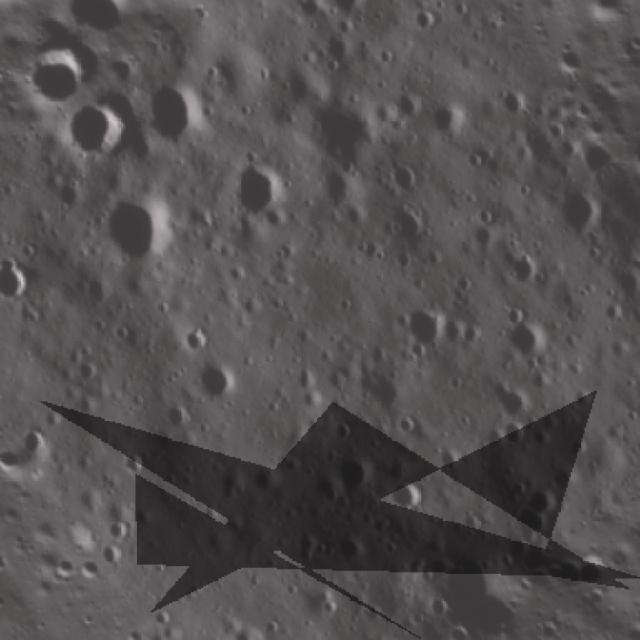crater: (283, 69, 402, 186), (86, 173, 194, 282), (207, 138, 304, 233), (46, 87, 140, 179), (127, 68, 218, 158), (199, 27, 287, 119), (537, 174, 617, 254), (389, 286, 463, 360), (492, 304, 560, 374), (356, 349, 424, 418), (185, 349, 250, 414), (322, 441, 386, 504), (496, 495, 558, 559), (481, 366, 542, 431), (490, 241, 552, 304), (379, 462, 439, 524), (0, 239, 45, 319), (421, 92, 479, 151), (405, 538, 463, 596), (382, 190, 440, 247), (278, 515, 334, 574), (376, 151, 433, 206), (325, 514, 378, 568), (489, 76, 542, 129), (11, 411, 63, 462), (516, 474, 567, 524), (169, 313, 220, 362), (157, 386, 206, 437), (310, 0, 382, 31), (600, 257, 640, 309), (400, 0, 448, 43), (112, 440, 156, 485), (415, 584, 460, 627), (224, 612, 282, 640), (388, 404, 426, 444), (254, 198, 292, 236), (288, 0, 337, 29), (457, 141, 492, 177), (370, 36, 404, 73), (627, 337, 640, 402)
